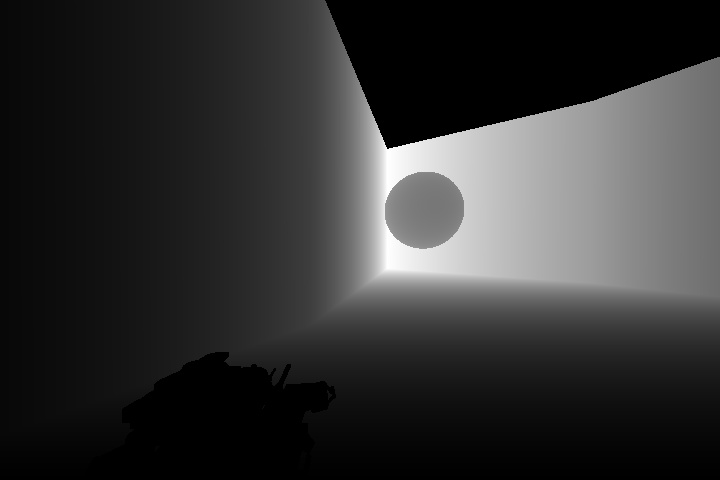mushroom: (384, 170, 467, 251)
